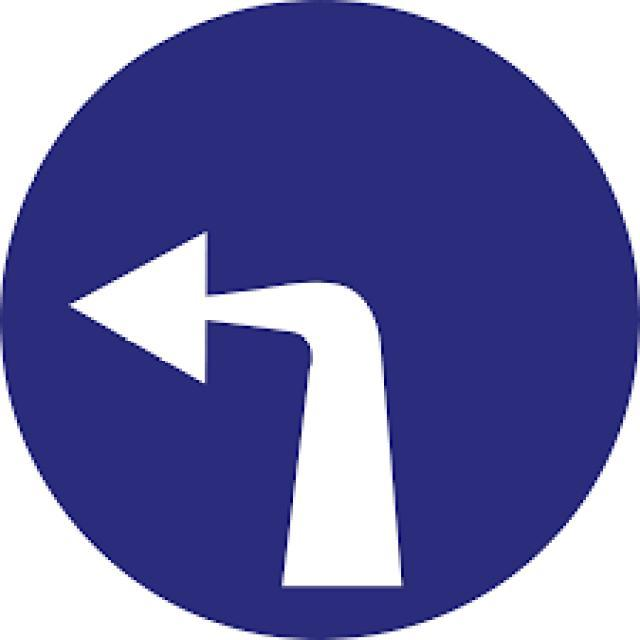compulsary turn left ahead: (19, 16, 616, 622)
